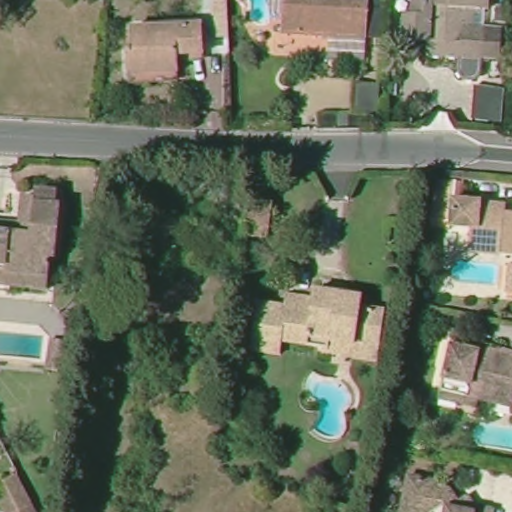pool: (300, 372, 360, 442), (441, 251, 507, 291), (469, 410, 512, 461), (1, 324, 49, 364), (235, 1, 279, 30)
